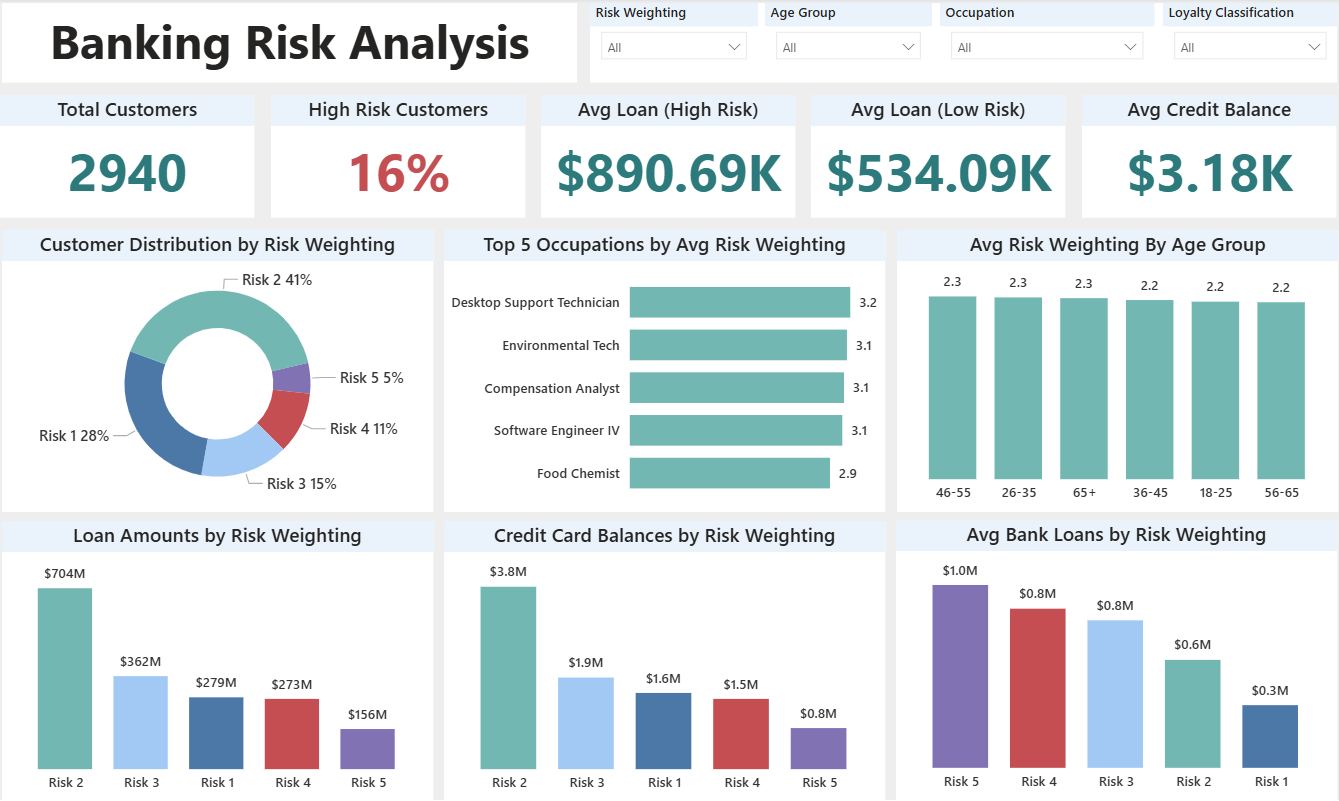

Layout of this report page (visuals, bound fields, positions):
{"tool":"powerbi","page":{"name":"Risk Overview","canvas":[1210,727],"ordinal":0},"visuals":[{"type":"shape","box":[533.5,4.8,675.5,72.4],"z":0},{"type":"textbox","box":[1.9,4.8,520.2,72.4],"z":1000},{"type":"card","title":"Total Customers","fields":{"Values":["Measures (2).Total Customers"]},"box":[0,87.6,230.3,111.2],"z":2000},{"type":"card","title":"High Risk Customers","fields":{"Values":["Measures (2).High Risk %"]},"box":[244.7,87.6,230,111.2],"z":3000},{"type":"card","title":"Avg Loan (High Risk)","fields":{"Values":["Measures (2).Avg Loan High Risk"]},"box":[489.2,87.6,230,111.2],"z":4000},{"type":"card","title":"Avg Credit Balance","fields":{"Values":["Measures (2).Avg credit balance"]},"box":[978.3,87.6,230.3,111.2],"z":5000},{"type":"card","title":"Avg Loan (Low Risk)","fields":{"Values":["Measures (2).Avg Loan Low Risk"]},"box":[733.6,87.6,230.3,111.2],"z":6000},{"type":"donutChart","title":"Customer Distribution by Risk Weighting","fields":{"Y":["CountNonNull(Banking.Client ID)"],"Category":["Banking.Risk Weight"]},"box":[1.8,209.4,389.8,254.9],"z":7000},{"type":"clusteredColumnChart","title":"Loan Amounts by Risk Weighting","fields":{"Category":["Banking.Risk Weight"],"Y":["Sum(Banking.Bank Loans)"]},"box":[1.9,472.6,389.7,254.4],"z":8000},{"type":"clusteredColumnChart","title":"Credit Card Balances by Risk Weighting","fields":{"Category":["Banking.Risk Weight"],"Y":["Sum(Banking.Credit Card Balance)"]},"box":[401.1,472.6,399.2,254.4],"z":9000},{"type":"clusteredBarChart","title":"Top 5 Occupations by Avg Risk Weighting","fields":{"Category":["Banking.Occupation"],"Y":["Avg(Banking.Risk Weighting)"]},"box":[401.1,209.6,399.2,255.3],"z":10000},{"type":"clusteredColumnChart","title":"Avg Risk Weighting By Age Group","fields":{"Y":["Avg(Banking.Risk Weighting)"],"Category":["Banking.Age Group"]},"box":[810.8,209.6,399.2,255.3],"z":11000},{"type":"clusteredColumnChart","title":"Avg Bank Loans by Risk Weighting","fields":{"Category":["Banking.Risk Weight"],"Y":["Avg(Banking.Bank Loans)"]},"box":[810.2,472,398.8,254.1],"z":12000},{"type":"slicer","title":"Risk Weighting","fields":{"Values":["Banking.Risk Weight"]},"box":[533.5,4.5,151.9,72.3],"z":13000},{"type":"slicer","title":"Age Group","fields":{"Values":["Banking.Age Group"]},"box":[691.7,4.5,151,72.3],"z":14000},{"type":"slicer","title":"Occupation","fields":{"Values":["Banking.Occupation"]},"box":[850,4.5,193.5,72.3],"z":15000},{"type":"slicer","title":"Loyalty Classification","fields":{"Values":["Banking.Loyalty Classification"]},"box":[1051.8,4.8,158.2,72.4],"z":16000}]}

Visuals, with their boxes in screenshot pixels (x1, y1, x2, y2), scaled from the page's 1210x727 canvas onto the 1339x801 screenshot:
shape: box=[590, 5, 1338, 85]
textbox: box=[2, 5, 578, 85]
"Total Customers" card: box=[0, 97, 255, 219]
"High Risk Customers" card: box=[271, 97, 525, 219]
"Avg Loan (High Risk)" card: box=[541, 97, 796, 219]
"Avg Credit Balance" card: box=[1083, 97, 1337, 219]
"Avg Loan (Low Risk)" card: box=[812, 97, 1067, 219]
"Customer Distribution by Risk Weighting" donutChart: box=[2, 231, 433, 512]
"Loan Amounts by Risk Weighting" clusteredColumnChart: box=[2, 521, 433, 800]
"Credit Card Balances by Risk Weighting" clusteredColumnChart: box=[444, 521, 886, 800]
"Top 5 Occupations by Avg Risk Weighting" clusteredBarChart: box=[444, 231, 886, 512]
"Avg Risk Weighting By Age Group" clusteredColumnChart: box=[897, 231, 1338, 512]
"Avg Bank Loans by Risk Weighting" clusteredColumnChart: box=[897, 520, 1338, 800]
"Risk Weighting" slicer: box=[590, 5, 758, 85]
"Age Group" slicer: box=[765, 5, 933, 85]
"Occupation" slicer: box=[941, 5, 1155, 85]
"Loyalty Classification" slicer: box=[1164, 5, 1338, 85]
